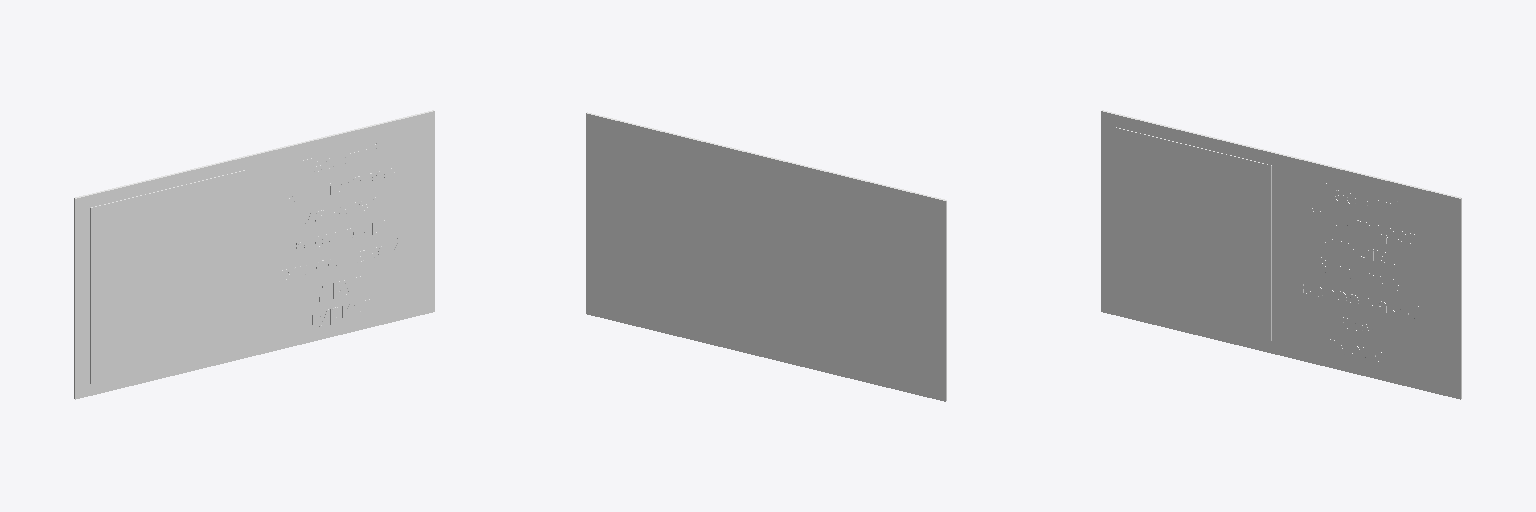
The model's file is visitka.obj.
3 renders of one model, left to right at view 1: azimuth 30°, elevation 25°; view 2: azimuth 150°, elevation 25°; view 3: azimuth 330°, elevation 25°, orthographic.
Visible parts, largest first — view 1: Box001, Box002, TextPlus001; view 2: Box001; view 3: Box001, Box002, TextPlus001.
Boxes of the visible parts, <box> form: Box001: <box>74,110,434,399</box>; Box002: <box>90,170,246,383</box>; TextPlus001: <box>282,143,399,327</box>; Box001: <box>586,112,946,401</box>; Box001: <box>1101,110,1461,399</box>; Box002: <box>1115,127,1271,340</box>; TextPlus001: <box>1302,183,1419,364</box>.
Size of the model in its own units: 150 by 80 by 3.2.